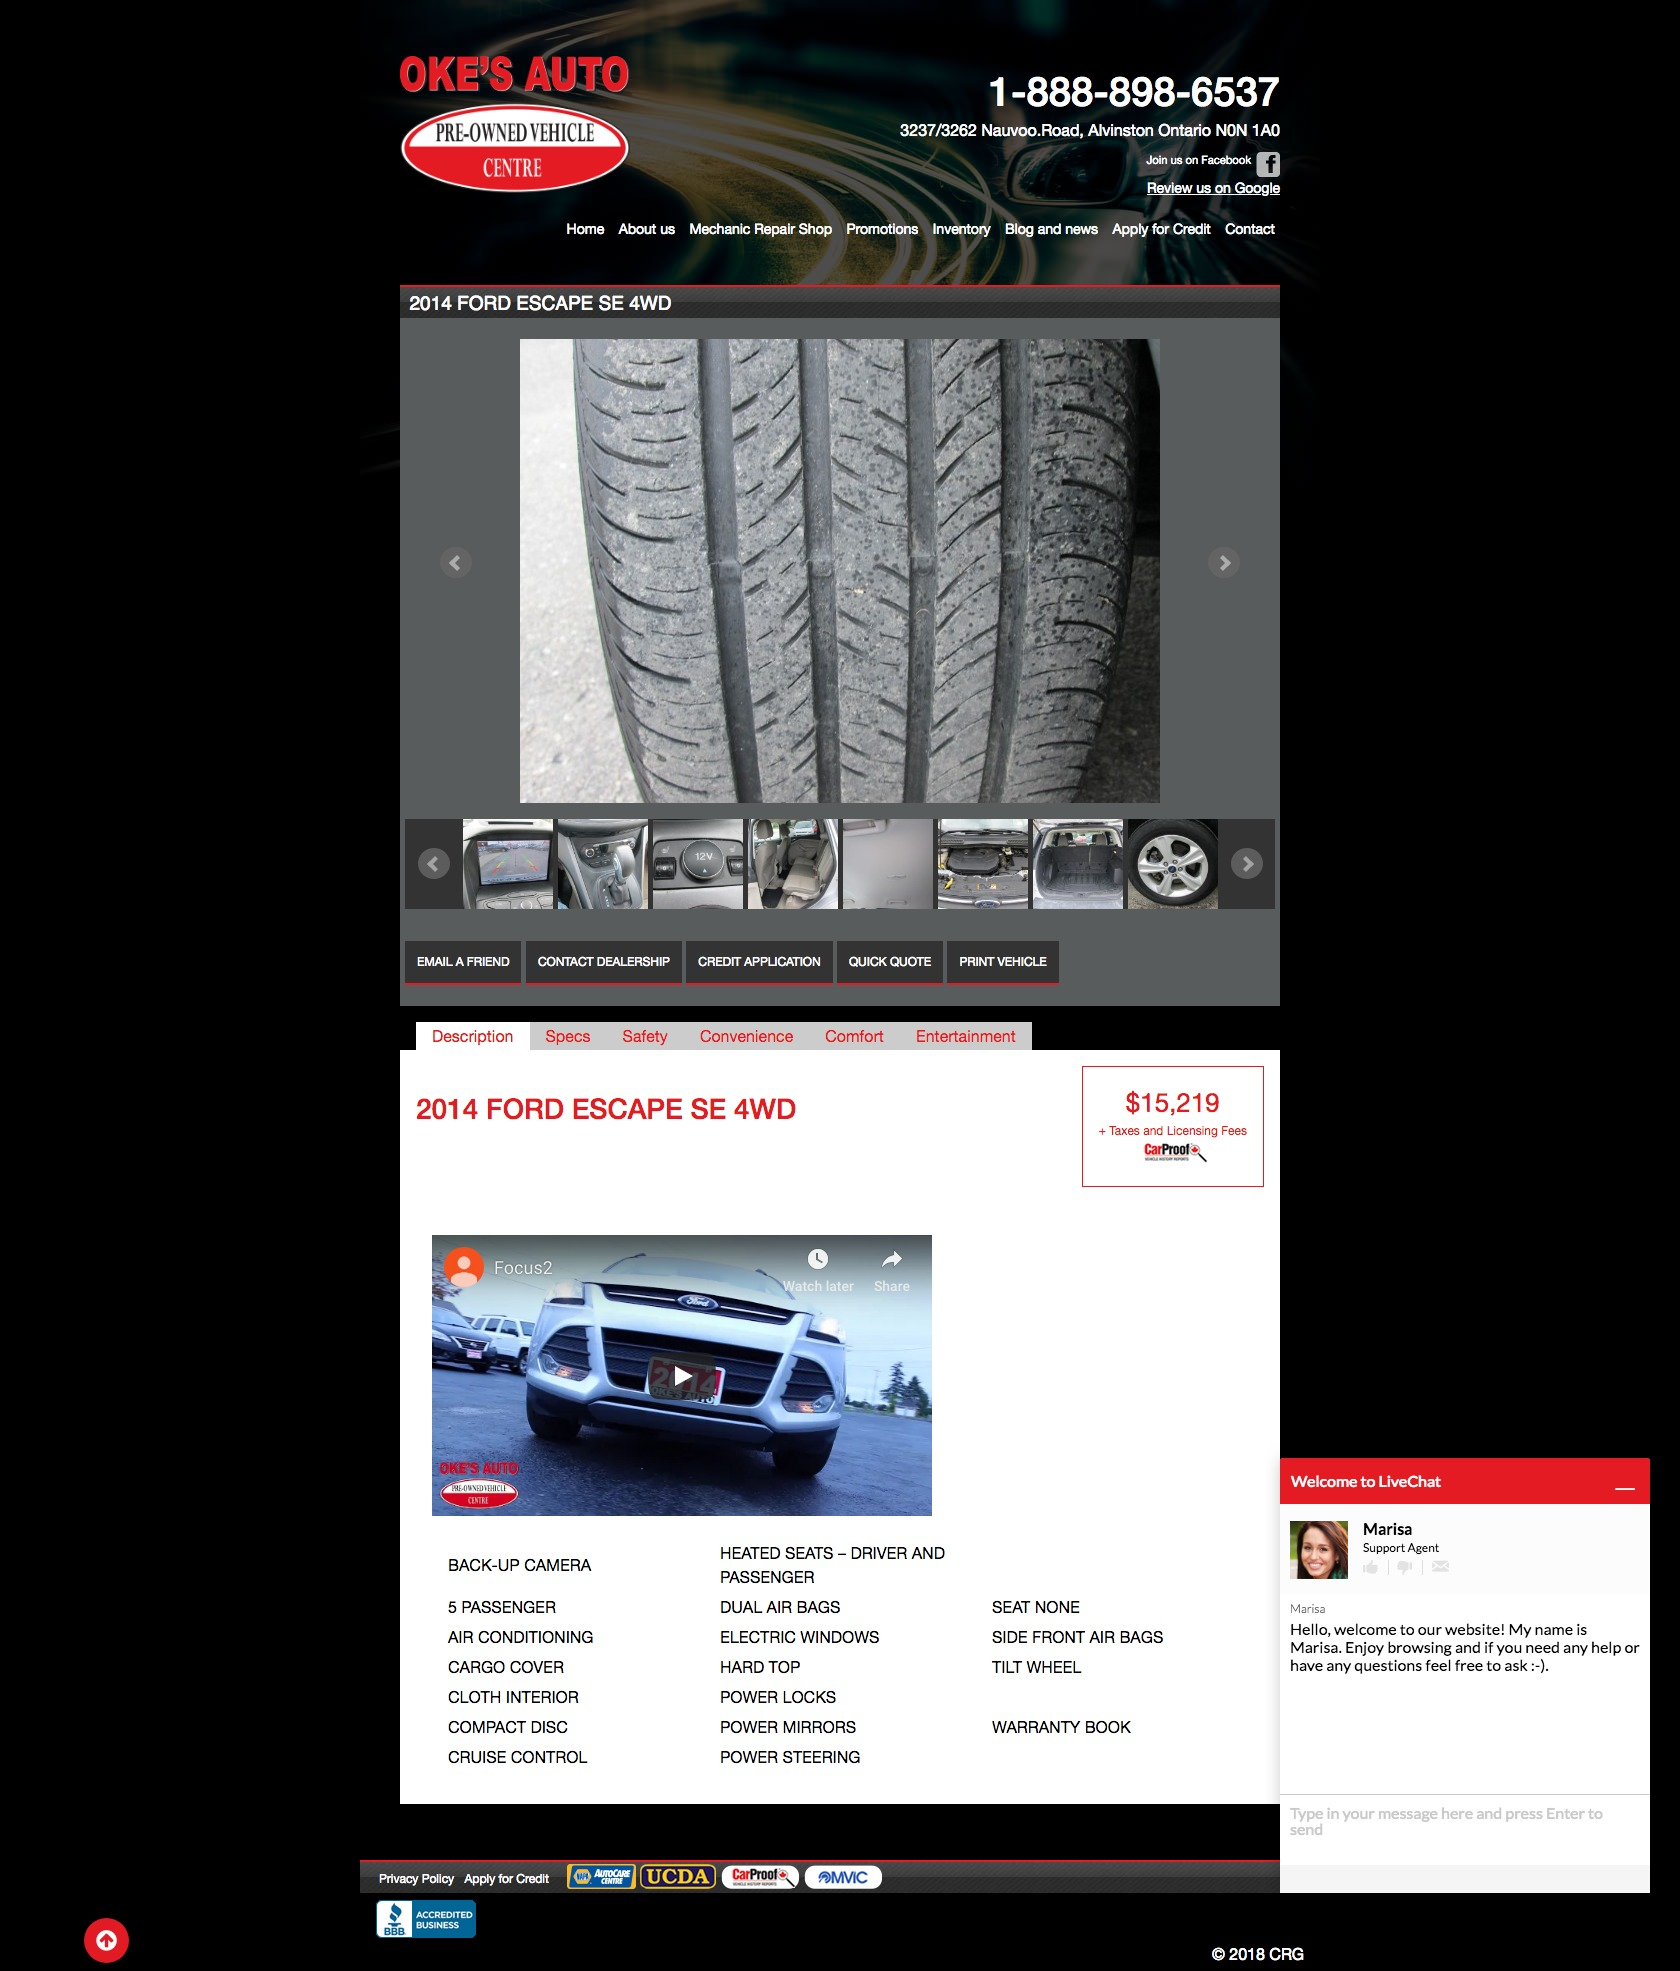car: (1243, 856, 1255, 873)
